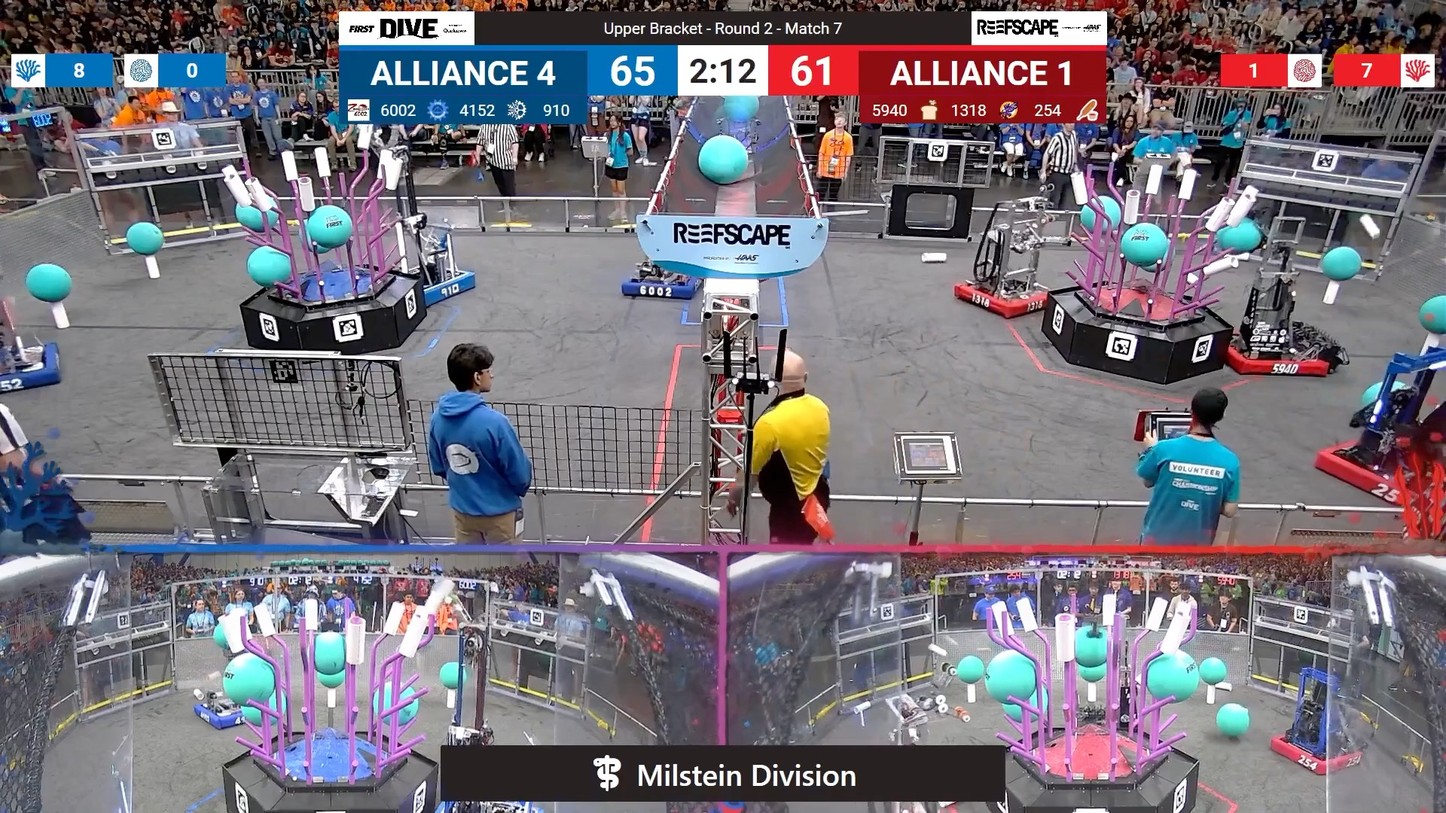bumpers: (1307, 431, 1443, 503), (1217, 327, 1342, 385), (948, 275, 1053, 323), (1265, 733, 1371, 778), (392, 263, 480, 306), (0, 339, 64, 398), (615, 263, 705, 301), (188, 694, 272, 732)
